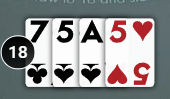5: (50, 17, 78, 47), (104, 17, 131, 46)
7: (24, 17, 53, 46)
a: (78, 18, 106, 46)
